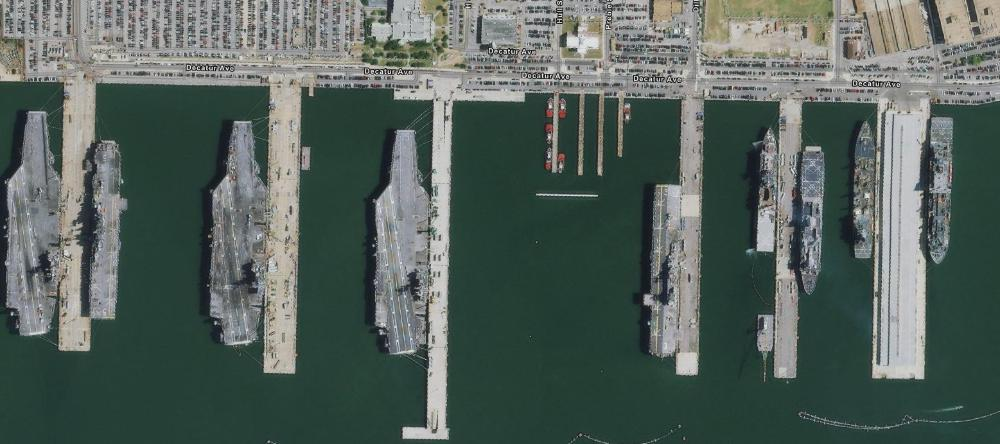pha: (89, 136, 131, 326), (644, 181, 685, 361)
tender: (930, 117, 955, 265), (853, 119, 876, 269)
